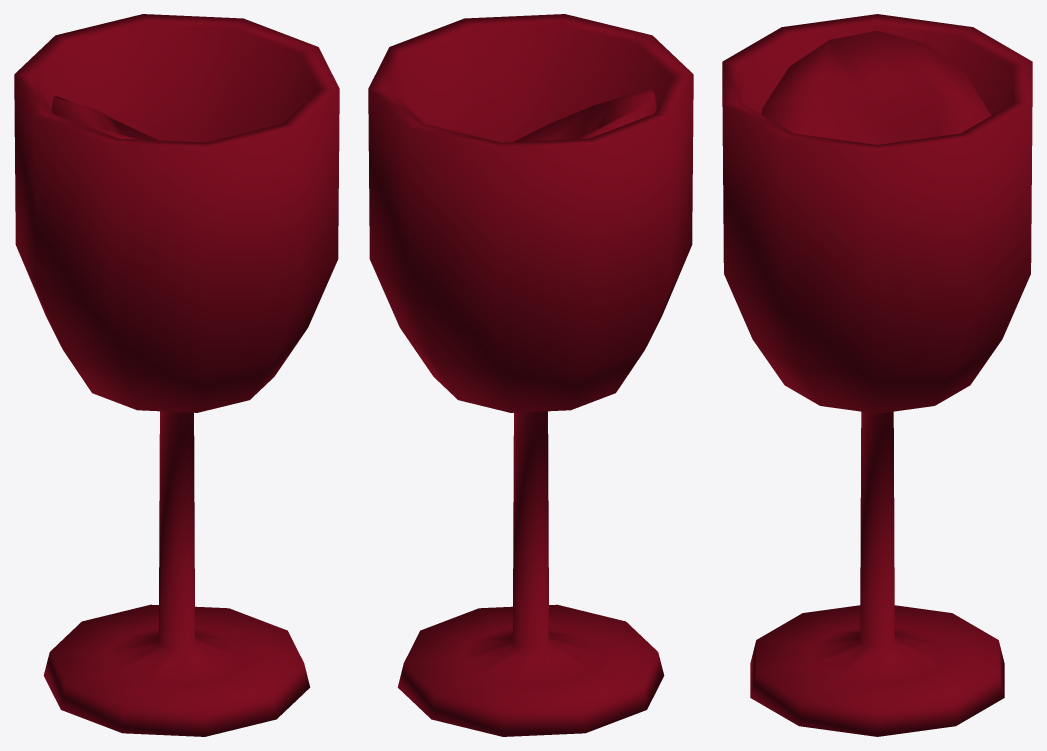
Rendered from Copa.fbx.
3 views of the same model, side by side, from view 1: azimuth 30°, elevation 25°; view 2: azimuth 150°, elevation 25°; view 3: azimuth 270°, elevation 25° (orthographic).
Visible parts, largest first — view 1: Copa; view 2: Copa; view 3: Copa.
Part boxes in pixels (left/top/right/bottom): Copa: left=14, top=14, right=339, bottom=736; Copa: left=368, top=14, right=693, bottom=736; Copa: left=722, top=14, right=1032, bottom=736.
Bounding box in the file's own units: 148 × 300 × 141.
